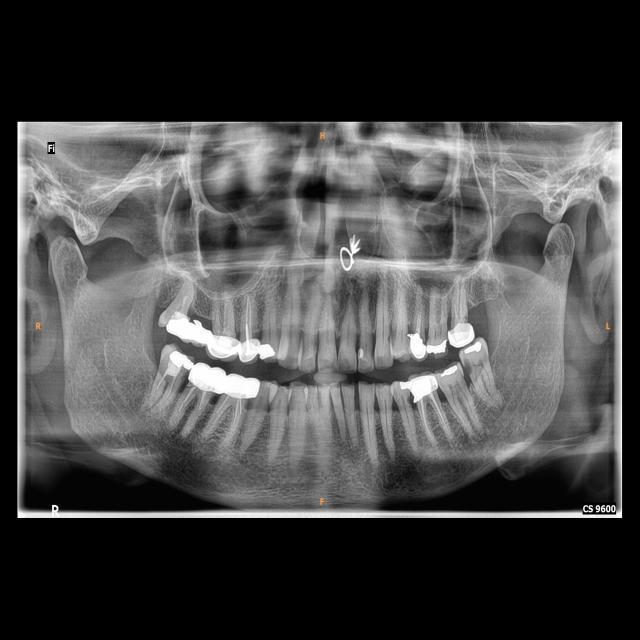dentin-curugu: (460, 356, 478, 384)
dolgu: (163, 344, 193, 372), (259, 337, 282, 364), (436, 363, 465, 382), (463, 342, 489, 362), (427, 334, 449, 356), (354, 343, 370, 361)
kanal-tedavisi: (413, 395, 448, 435), (215, 393, 243, 431), (151, 362, 176, 404), (178, 388, 209, 420), (240, 295, 254, 339)
kaplama: (188, 359, 227, 395), (223, 371, 262, 402), (404, 374, 440, 400), (208, 332, 240, 361), (447, 321, 474, 346), (408, 332, 427, 362), (239, 340, 259, 362)
kopru: (162, 306, 224, 360)
